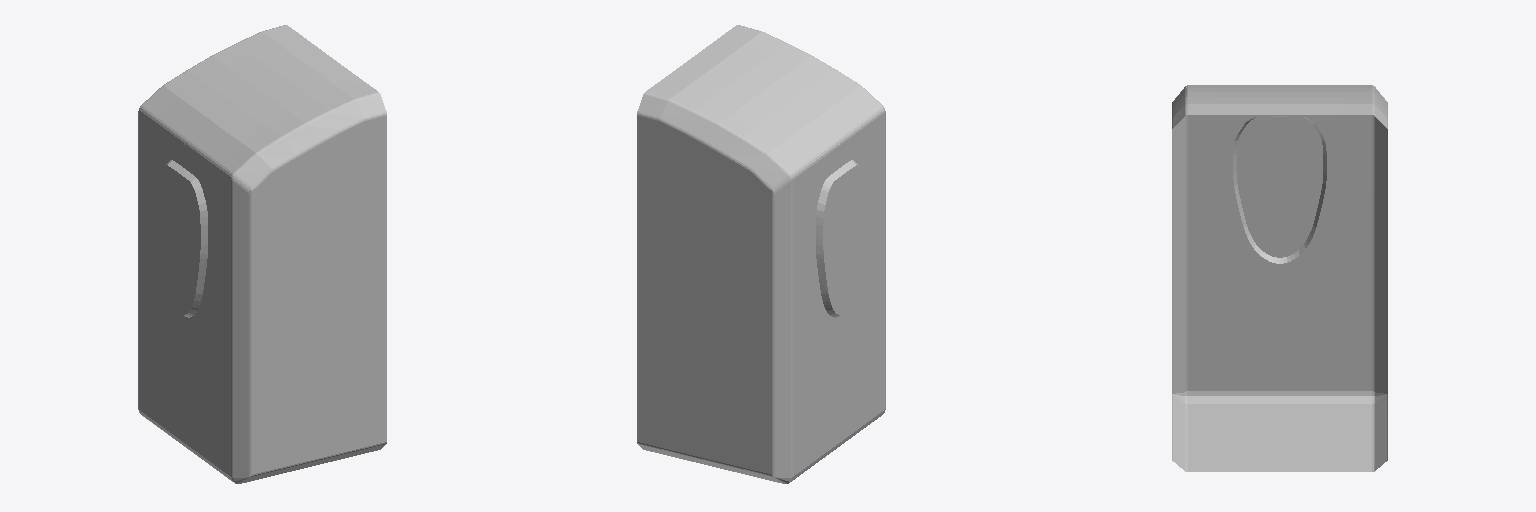
File: lotion.obj
3 renders of one model, left to right at view 1: azimuth 30°, elevation 25°; view 2: azimuth 150°, elevation 25°; view 3: azimuth 270°, elevation 25°, orthographic.
Visible parts, largest first — view 1: lotion; view 2: lotion; view 3: lotion.
Boxes of the visible parts, x1=… form: lotion: x1=138, y1=25, x2=386, y2=483; lotion: x1=637, y1=25, x2=885, y2=483; lotion: x1=1172, y1=85, x2=1387, y2=471.
Size of the model in its own units: 0.3742 by 0.8302 by 0.4562.